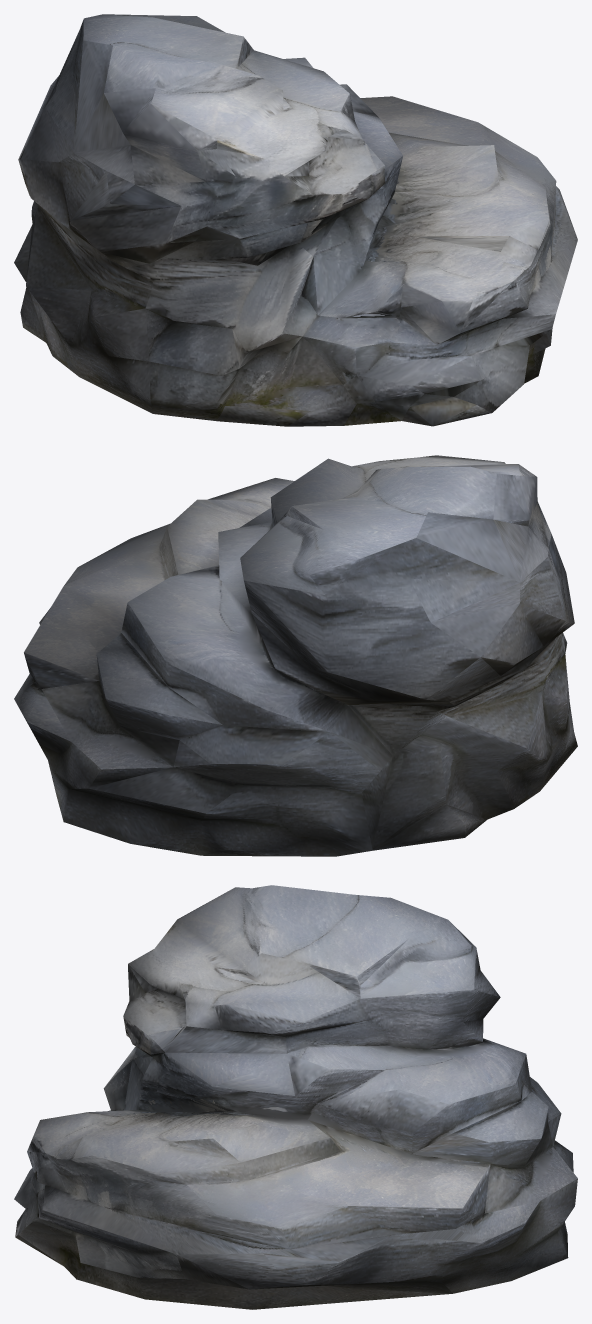
Rendered from StrataRock_LOD2.fbx.
3 views of the same model, one above another, from view 1: azimuth 30°, elevation 25°; view 2: azimuth 150°, elevation 25°; view 3: azimuth 270°, elevation 25° (orthographic). The views are drawn at different scales.
Parts seen in each view (by area): view 1: StrataRock_LOD0; view 2: StrataRock_LOD0; view 3: StrataRock_LOD0.
Part boxes in pixels (x1,y1,x2,y2): StrataRock_LOD0: (14, 14, 577, 426); StrataRock_LOD0: (14, 455, 577, 856); StrataRock_LOD0: (14, 885, 577, 1309).
Bounding box in the file's own units: 3.02 × 1.73 × 3.24.
